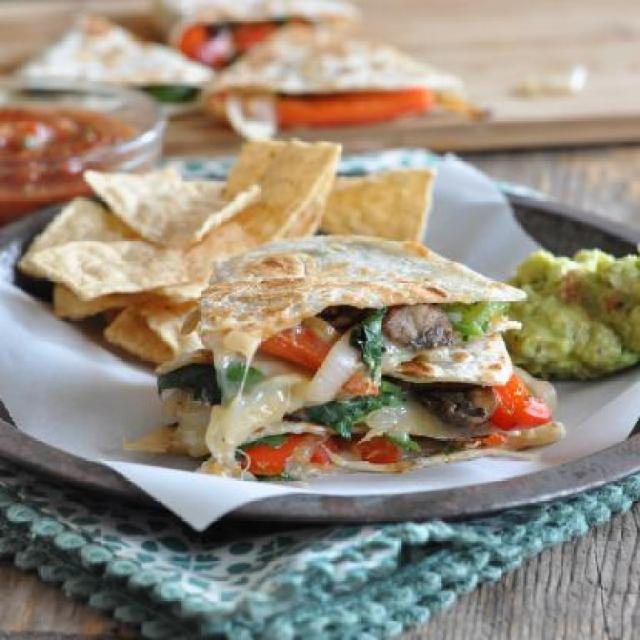chicken quesadilla: (120, 224, 569, 485), (5, 2, 510, 140)
guacamole: (486, 240, 640, 378)
nachos: (31, 146, 444, 322)
